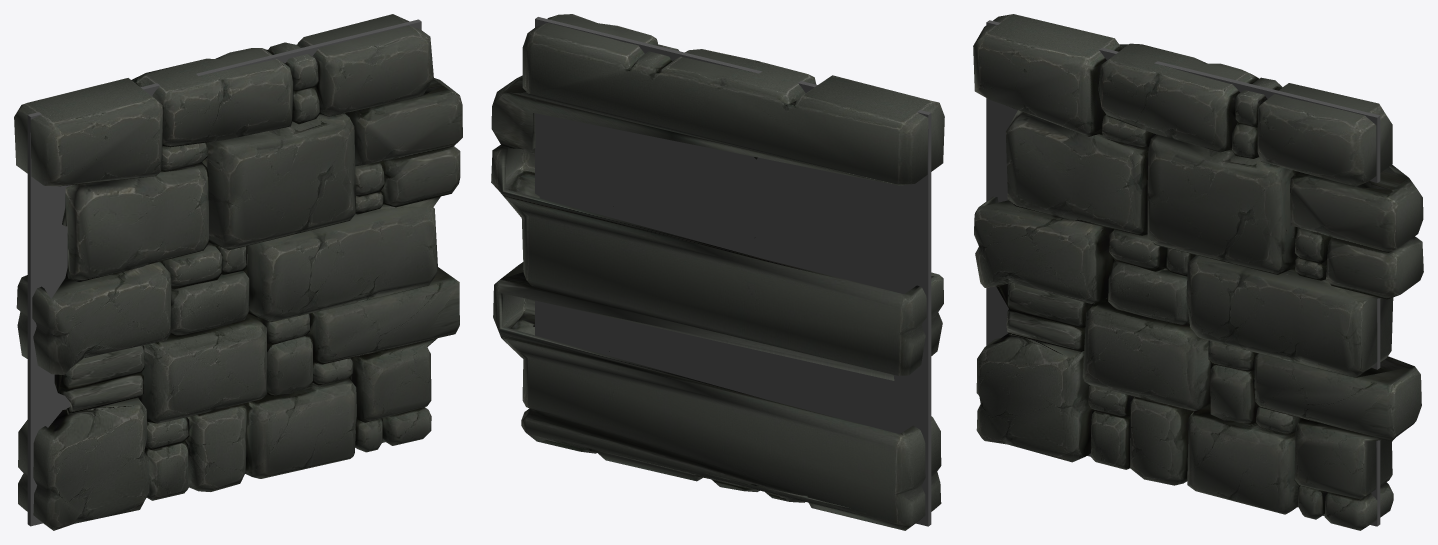
File: StoneWall.fbx
The picture shows the model from 3 angles, left to right: view 1: azimuth 30°, elevation 25°; view 2: azimuth 150°, elevation 25°; view 3: azimuth 330°, elevation 25°; orthographic projection.
Parts seen in each view (by area): view 1: Plane; view 2: Plane; view 3: Plane.
Part boxes in pixels (x1,y1,x2,y2): Plane: [14, 14, 462, 530]; Plane: [491, 14, 944, 530]; Plane: [973, 14, 1423, 530].
Bounding box in the file's own units: 323 × 301 × 55.62.
